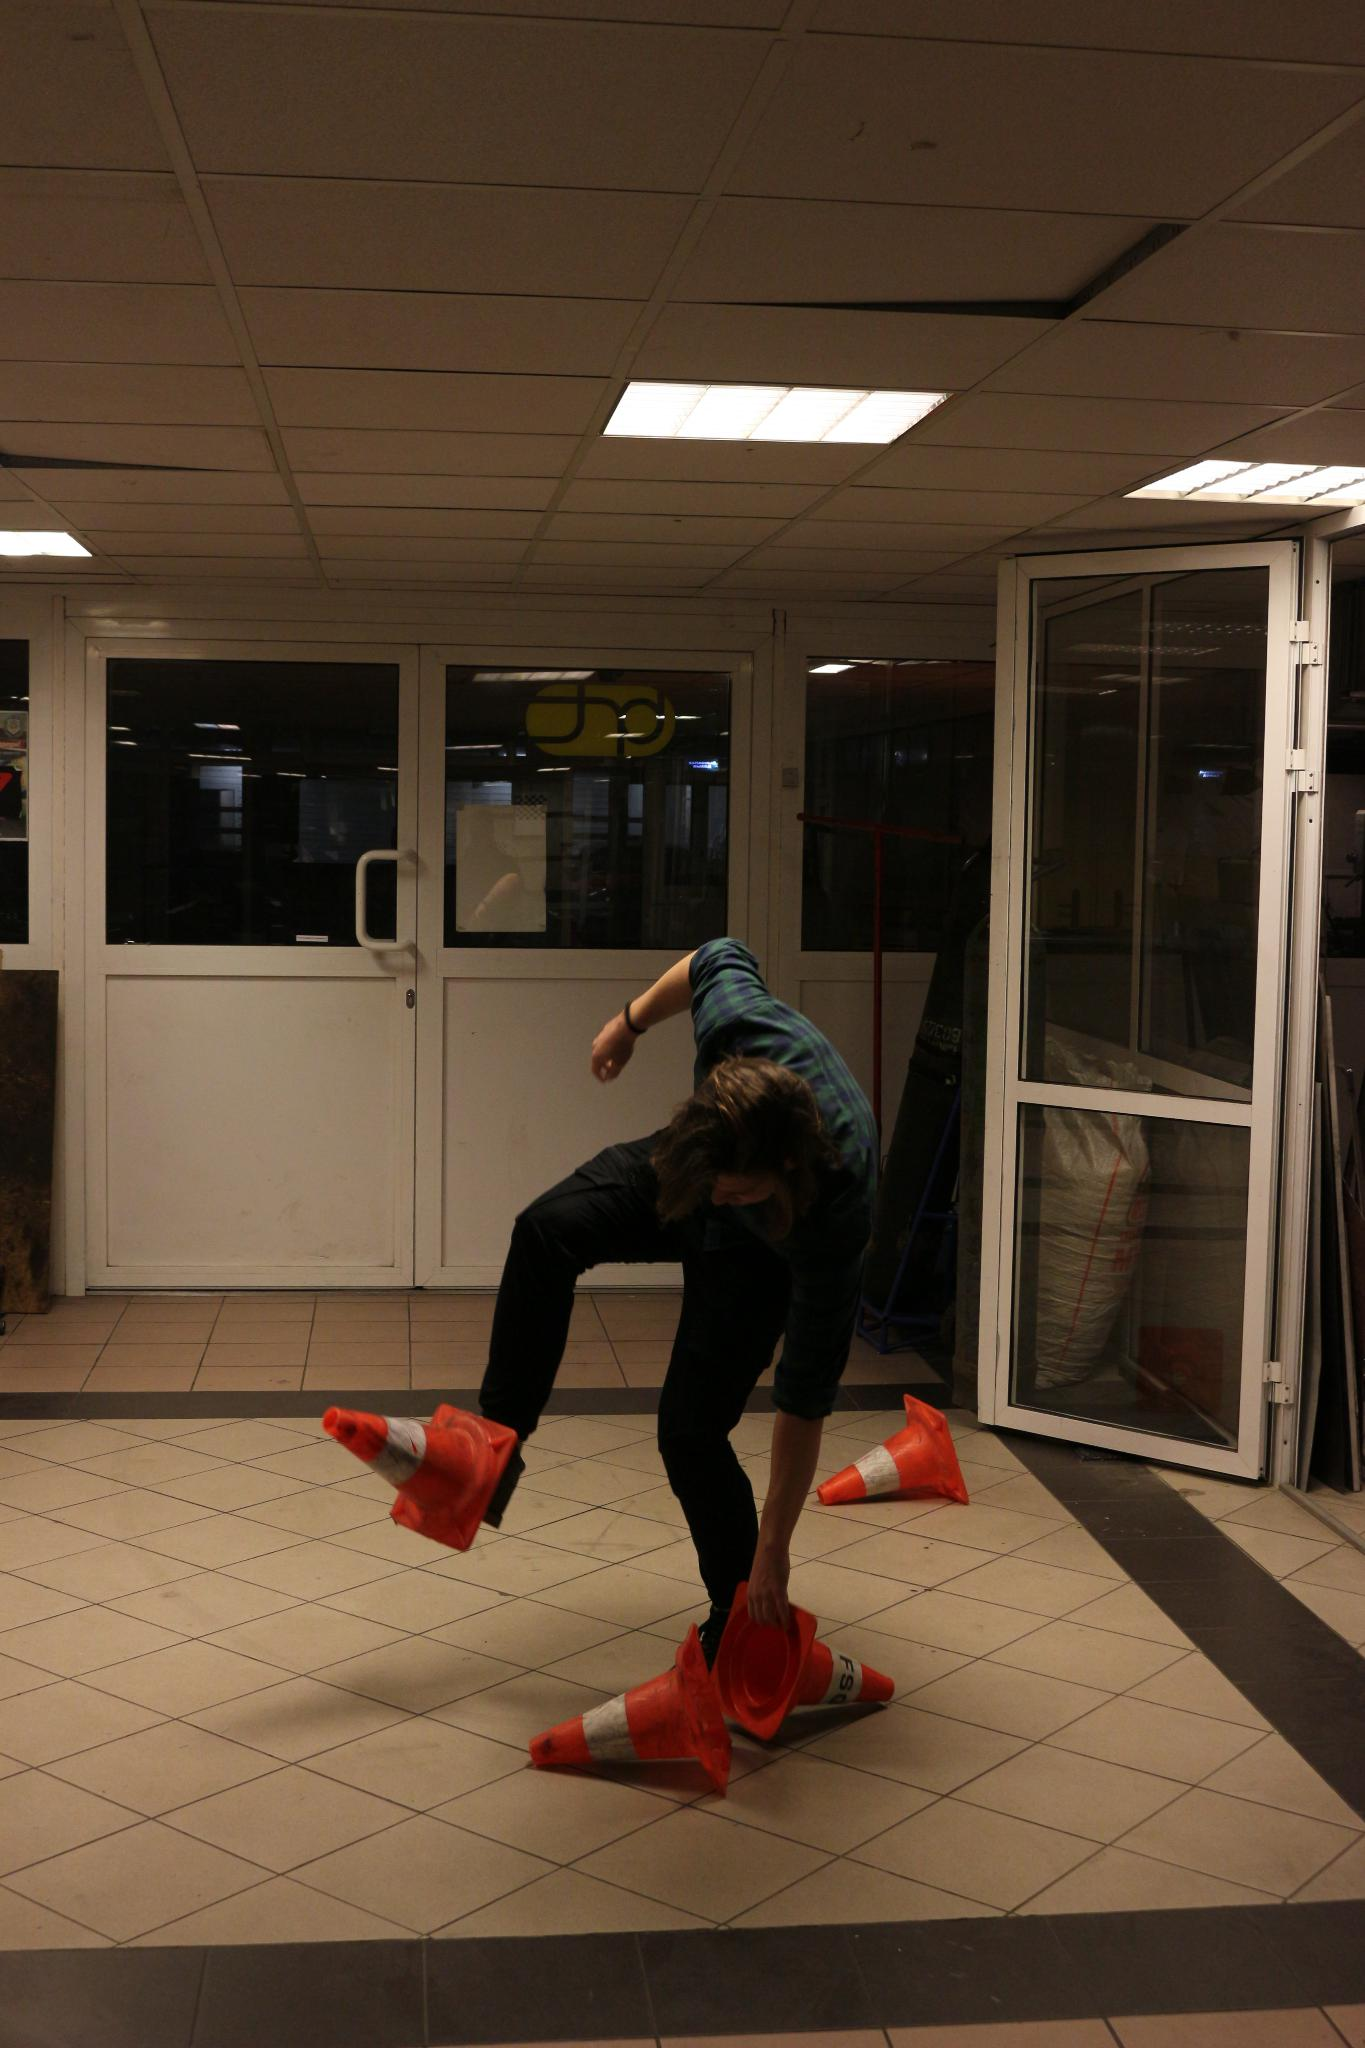Orange_Cone: (305, 1383, 510, 1539), (714, 1567, 906, 1733), (530, 1654, 737, 1795), (800, 1395, 981, 1510)
